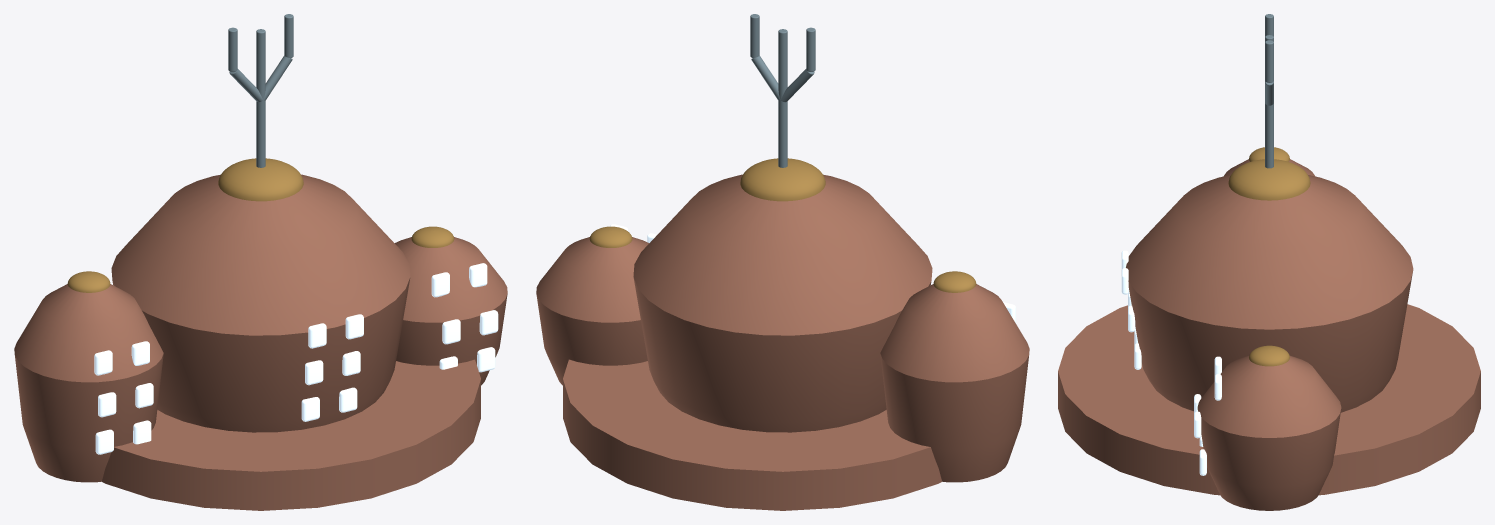
The picture shows the model from 3 angles, left to right: view 1: azimuth 30°, elevation 25°; view 2: azimuth 150°, elevation 25°; view 3: azimuth 270°, elevation 25°; orthographic projection. The views are drawn at different scales.
Visible parts, largest first — view 1: Bulb shaped chamber, Foundation drum, Bulb shaped chamber.002, Bulb shaped chamber.001, Tower crown, Aerial stem, Tower crown.002, Tower crown.001; view 2: Bulb shaped chamber, Foundation drum, Bulb shaped chamber.002, Bulb shaped chamber.001, Tower crown, Aerial stem, Tower crown.002, Tower crown.001; view 3: Bulb shaped chamber, Foundation drum, Bulb shaped chamber.001, Tower crown, Tower crown.001, Aerial stem.
Boxes of the visible parts, x1=… form: Bulb shaped chamber: x1=111, y1=174, x2=410, y2=432; Foundation drum: x1=102, y1=359, x2=480, y2=510; Bulb shaped chamber.002: x1=14, y1=284, x2=163, y2=482; Bulb shaped chamber.001: x1=394, y1=237, x2=507, y2=385; Tower crown: x1=218, y1=158, x2=303, y2=201; Aerial stem: x1=256, y1=29, x2=265, y2=167; Tower crown.002: x1=67, y1=271, x2=110, y2=292; Tower crown.001: x1=411, y1=226, x2=454, y2=247; Bulb shaped chamber: x1=633, y1=174, x2=932, y2=432; Foundation drum: x1=563, y1=359, x2=941, y2=510; Bulb shaped chamber.002: x1=880, y1=284, x2=1029, y2=482; Bulb shaped chamber.001: x1=536, y1=237, x2=649, y2=385; Tower crown: x1=740, y1=158, x2=825, y2=201; Aerial stem: x1=778, y1=29, x2=787, y2=167; Tower crown.002: x1=933, y1=271, x2=976, y2=292; Tower crown.001: x1=589, y1=226, x2=632, y2=247; Bulb shaped chamber: x1=1126, y1=175, x2=1413, y2=412; Foundation drum: x1=1058, y1=304, x2=1480, y2=495; Bulb shaped chamber.001: x1=1197, y1=355, x2=1341, y2=510; Tower crown: x1=1228, y1=159, x2=1310, y2=200; Tower crown.001: x1=1249, y1=345, x2=1289, y2=366; Aerial stem: x1=1265, y1=35, x2=1273, y2=168.
Size of the model in its own units: 2.53 by 2.02 by 2.04.
